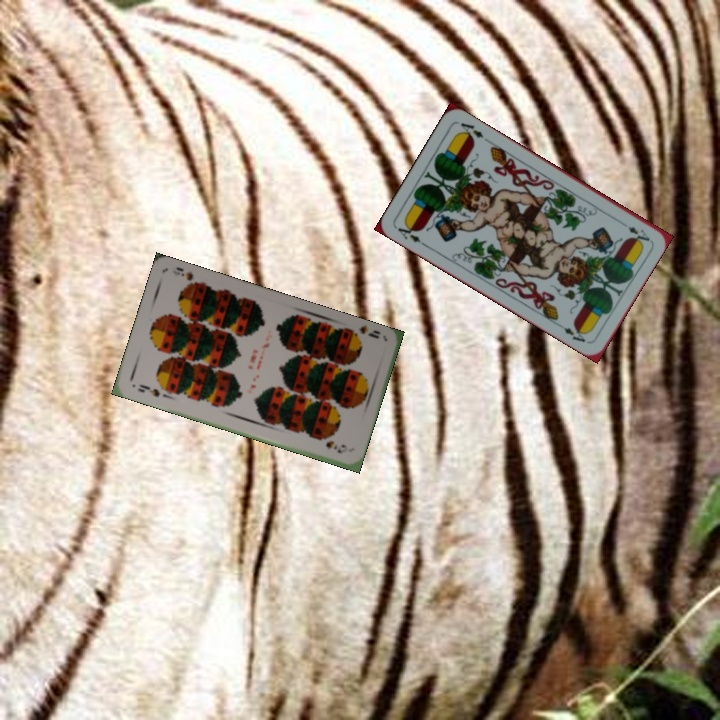EA: (393, 219, 429, 249), (616, 217, 653, 244)
S9: (345, 322, 383, 341), (133, 380, 162, 400)
